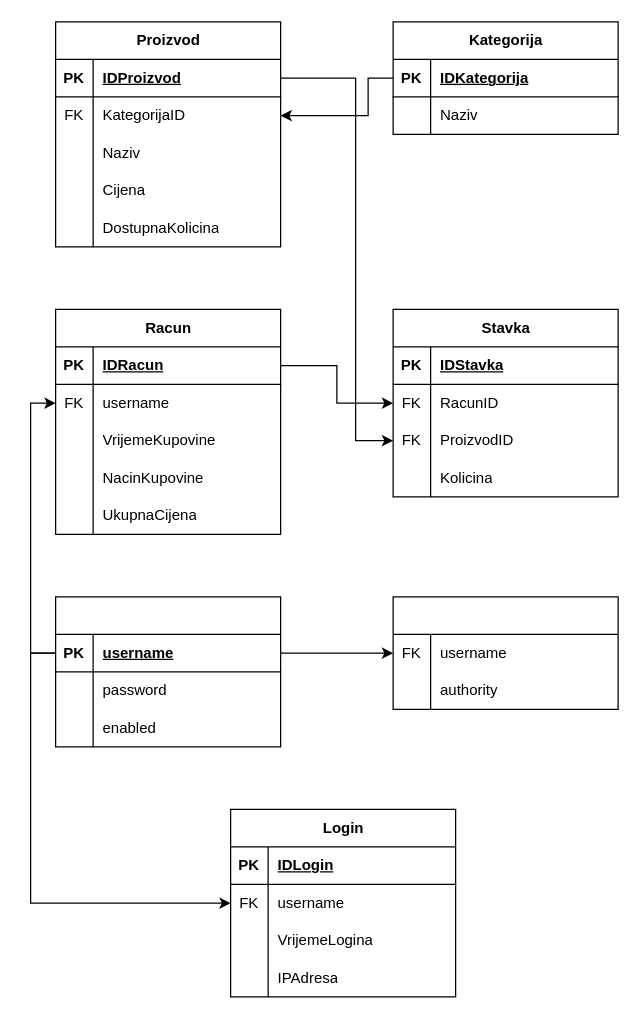
This 640x1019 diagram has some shape labels left out. Each missing label, with the box of its shape:
authorities: (392, 596, 618, 709)
users: (54, 596, 281, 747)
